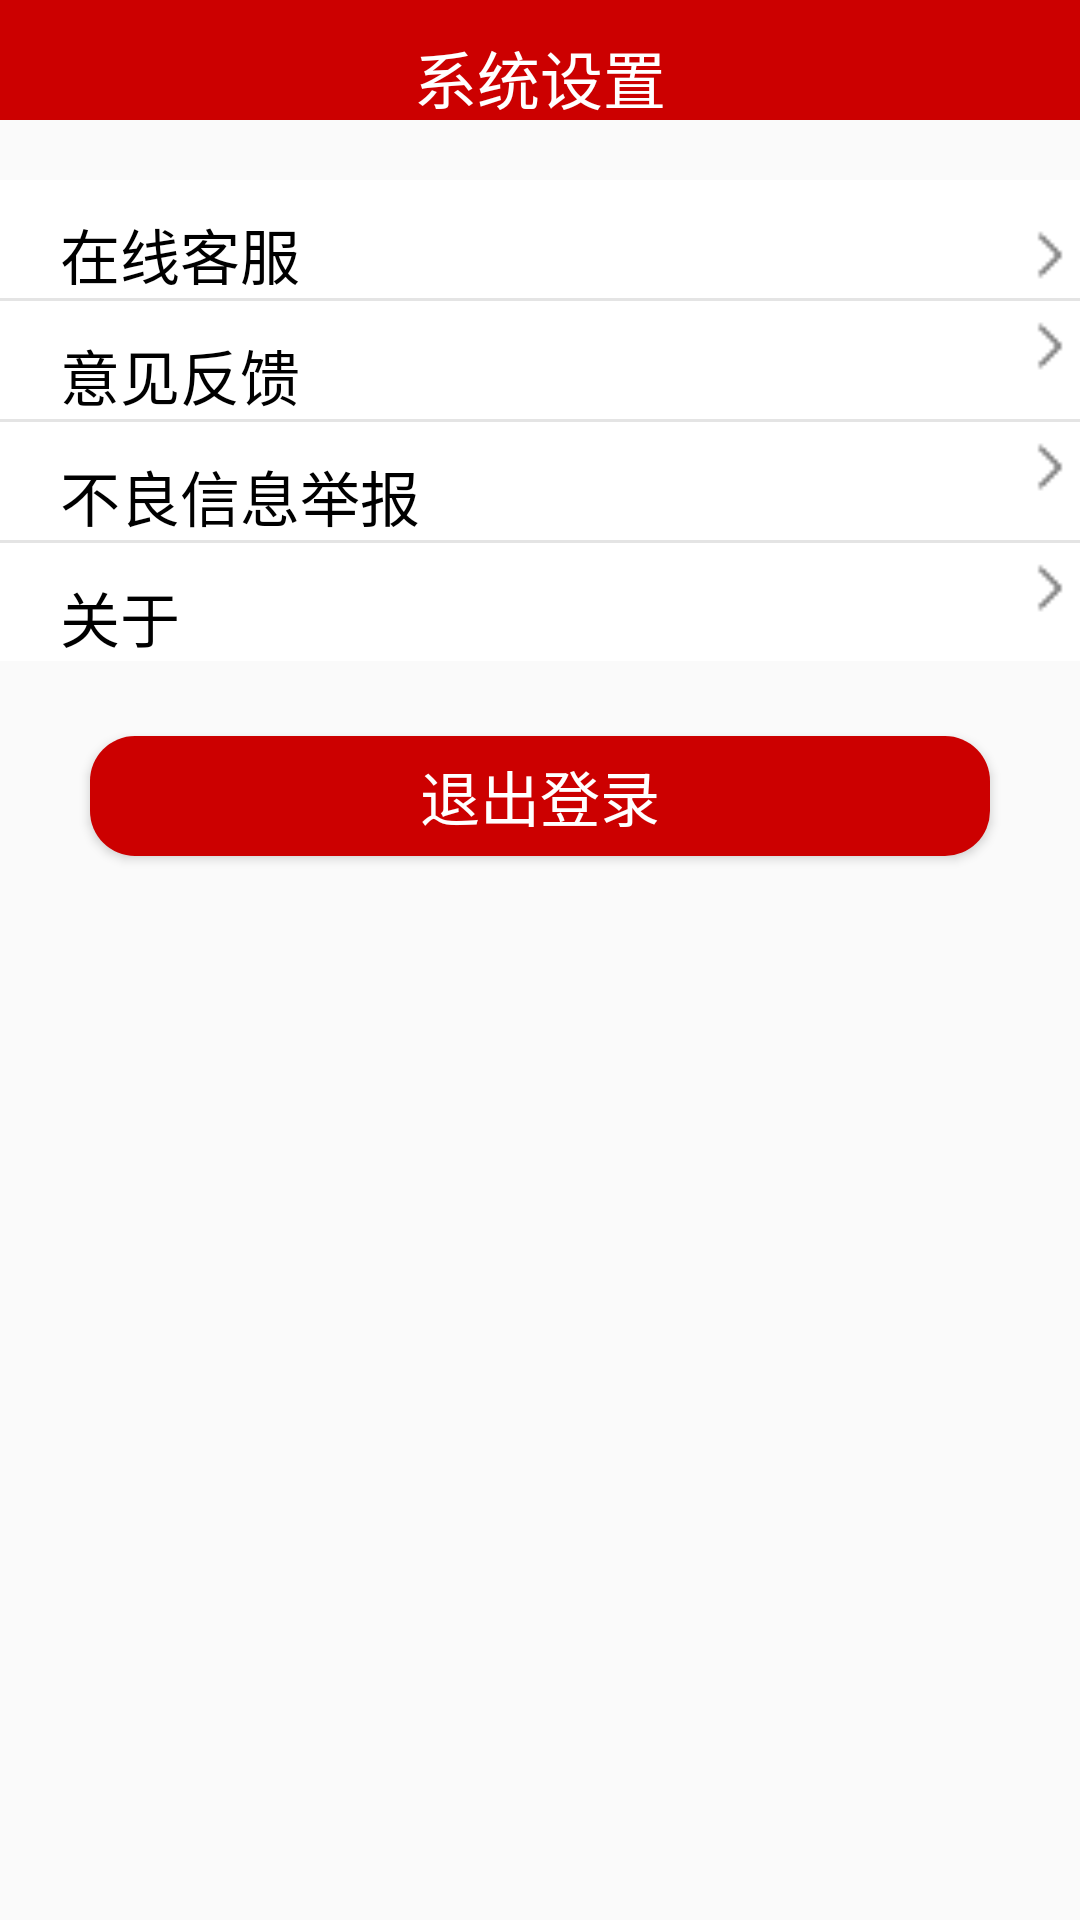

Icons on this 1080x1920 Android screen, each with the point to tap as (x=x, y=y):
arrowright: (x=1050, y=255), (x=1050, y=346), (x=1050, y=467), (x=1050, y=588)
